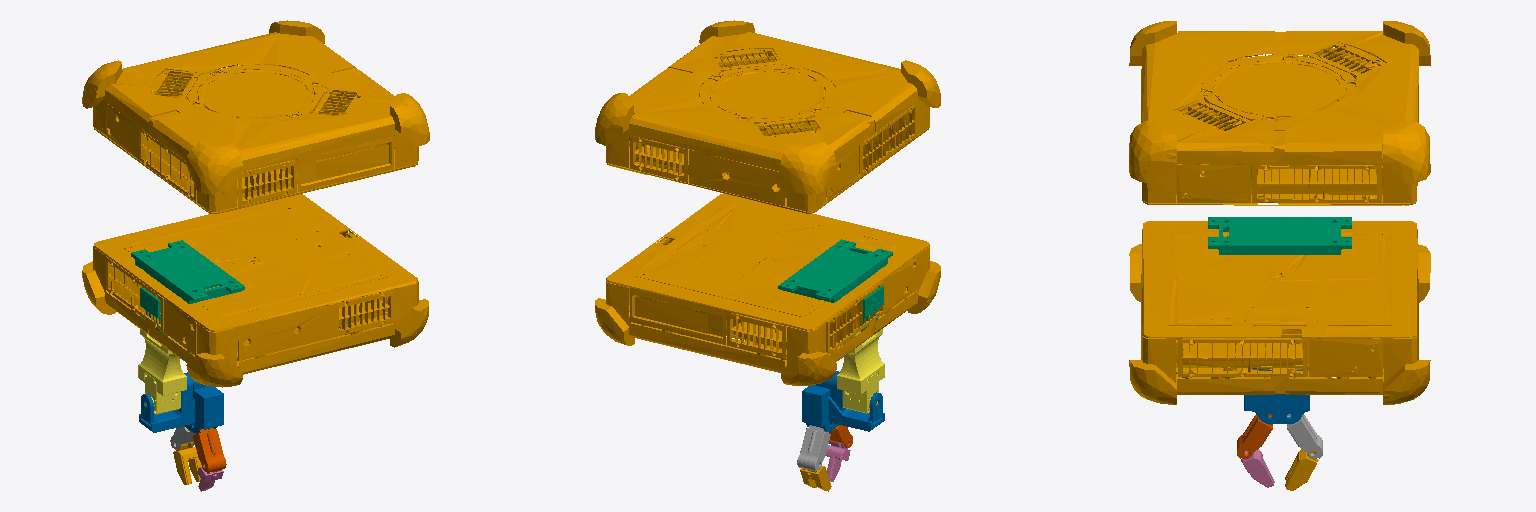
URDF robot description (astrobee):
<?xml version="1.0" ?>
<!-- =================================================================================== -->
<!-- |    This document was autogenerated by xacro from astrobee.urdf.xacro            | -->
<!-- |    EDITING THIS FILE BY HAND IS NOT RECOMMENDED                                 | -->
<!-- =================================================================================== -->
<!-- Copyright (c) 2017, United States Government, as represented by the     -->
<!-- Administrator of the National Aeronautics and Space Administration.     -->
<!--                                                                         -->
<!-- All rights reserved.                                                    -->
<!--                                                                         -->
<!-- The Astrobee platform is licensed under the Apache License, Version 2.0 -->
<!-- (the "License"); you may not use this file except in compliance with    -->
<!-- the License. You may obtain a copy of the License at                    -->
<!--                                                                         -->
<!--     http://www.apache.org/licenses/LICENSE-2.0                          -->
<!--                                                                         -->
<!-- Unless required by applicable law or agreed to in writing, software     -->
<!-- distributed under the License is distributed on an "AS IS" BASIS,       -->
<!-- WITHOUT WARRANTIES OR CONDITIONS OF ANY KIND, either express or         -->
<!-- implied. See the License for the specific language governing            -->
<!-- permissions and limitations under the License.                          -->
<robot name="astrobee" xmlns:xacro="http://www.ros.org/wiki/xacro">
  <!-- BASE GEOMETRY -->
  <link name="body">
    <self_collide>false</self_collide>
    <!-- body -->
    <visual name="body_visual">
      <origin rpy="0 0 0" xyz="0 0 0"/>
      <geometry>
        <mesh filename="package://Astrobee/meshes/astrobee/body.obj"/>
      </geometry>
    </visual>
    <collision name="body_collision">
      <origin rpy="0 0 0" xyz="-0.000794 0.000229 -0.003907"/>
      <geometry>
        <box size="0.290513 0.151942 0.281129"/>
      </geometry>
    </collision>
    <!-- port pmc -->
    <visual name="pmc_port_visual">
      <origin rpy="0 0 0" xyz="0 0 0"/>
      <geometry>
        <mesh filename="package://Astrobee/meshes/astrobee/pmc.obj"/>
      </geometry>
    </visual>
    <visual name="pmc_port_bumper_visual">
      <origin rpy="0 0 0" xyz="0 0 0"/>
      <geometry>
        <mesh filename="package://Astrobee/meshes/astrobee/pmc_bumper.obj"/>
      </geometry>
    </visual>
    <visual name="pmc_port_skin_visual">
      <origin rpy="0 0 0" xyz="0 0 0"/>
      <geometry>
        <mesh filename="package://Astrobee/meshes/astrobee/pmc_skin.obj"/>
      </geometry>
    </visual>
    <collision name="pmc_port_collision">
      <origin rpy="0 0 0" xyz="0 -0.117546 0"/>
      <geometry>
        <box size="0.319199 0.083962 0.319588"/>
      </geometry>
    </collision>
    <!-- starboard pmc -->
    <visual name="pmc_stbd_visual">
      <origin rpy="0 3.14 3.14" xyz="0 0 0"/>
      <geometry>
        <mesh filename="package://Astrobee/meshes/astrobee/pmc.obj"/>
      </geometry>
    </visual>
    <visual name="pmc_stbd_bumper_visual">
      <origin rpy="0 3.14 3.14" xyz="0 0 0"/>
      <geometry>
        <mesh filename="package://Astrobee/meshes/astrobee/pmc_bumper.obj"/>
      </geometry>
    </visual>
    <visual name="pmc_stbd_skin_visual">
      <origin rpy="0 3.14 3.14" xyz="0 0 0"/>
      <geometry>
        <mesh filename="package://Astrobee/meshes/astrobee/pmc_skin.obj"/>
      </geometry>
    </visual>
    <collision name="pmc_stbd_collision">
      <origin rpy="0 0 0" xyz="0 0.117546 0"/>
      <geometry>
        <box size="0.319199 0.083962 0.319588"/>
      </geometry>
    </collision>
  </link>
  <!-- This is a workaround for KDL -->
  <link name="inertial_link">
    <self_collide>false</self_collide>
    <inertial>
      <mass value="7.0"/>
      <origin xyz="0 0 0"/>
      <inertia ixx="0.1083" ixy="0.0" ixz="0.0" iyy="0.1083" iyz="0.0" izz="0.1083"/>
    </inertial>
  </link>
  <joint name="inertial_joint" type="fixed">
    <origin rpy="0 0 0" xyz="0 0 0"/>
    <parent link="body"/>
    <child link="inertial_link"/>
  </joint>
  <link name="top_aft">
    <self_collide>false</self_collide>
    <inertial>
      <origin rpy="0 0 0" xyz="0 0 0"/>
      <mass value="0.3078"/>
      <inertia ixx="0.02705" ixy="0.0" ixz="0.0" iyy="0.02705" iyz="0.0" izz="0.02705"/>
    </inertial>
    <visual>
      <origin rpy="0 0 0" xyz="0 0 0"/>
      <geometry>
        <mesh filename="package://Astrobee/meshes/perching_arm/base_link.obj"/>
      </geometry>
      <material name="top_aft_beige"/>
    </visual>
    <collision>
      <origin rpy="0 0 0" xyz="0 -0.038125 0"/>
      <geometry>
        <box size="0.090441 0.152400 0.076250"/>
      </geometry>
    </collision>
  </link>
  <joint name="top_aft" type="fixed">
    <origin rpy="0.0 3.1415 0.0" xyz="-0.01 0.0 -0.065"/>
    <parent link="body"/>
    <child link="top_aft"/>
  </joint>
  <link name="top_aft_arm_proximal_link">
    <self_collide>false</self_collide>
    <inertial>
      <origin rpy="0 0 0" xyz="0 0 0"/>
      <mass value="0.1623"/>
      <inertia ixx="0.02705" ixy="0.0" ixz="0.0" iyy="0.02705" iyz="0.0" izz="0.02705"/>
    </inertial>
    <visual>
      <origin rpy="0 0 0" xyz="0 0 0"/>
      <geometry>
        <mesh filename="package://Astrobee/meshes/perching_arm/arm_proximal_link.obj"/>
      </geometry>
      <material name="top_aft_beige"/>
    </visual>
    <collision>
      <origin rpy="0 0 0" xyz="-0.049625 -0.0022 0"/>
      <geometry>
        <box size="0.123250 0.068000 0.042400"/>
      </geometry>
    </collision>
  </link>
  <joint name="top_aft_arm_proximal_joint" type="revolute">
    <origin rpy="0 1.57079632679 0" xyz="0.11945 0 0.065"/>
    <parent link="top_aft"/>
    <child link="top_aft_arm_proximal_link"/>
    <axis xyz="0 -1 0"/>
    <limit effort="2.7" lower="-2.0944" upper="1.57079" velocity="0.12"/>
  </joint>
  <link name="top_aft_arm_distal_link">
    <self_collide>false</self_collide>
    <inertial>
      <origin rpy="0 0 0" xyz="0 0 0"/>
      <mass value="0.1033"/>
      <inertia ixx="0.002705" ixy="0.0" ixz="0.0" iyy="0.002705" iyz="0.0" izz="0.002705"/>
    </inertial>
    <visual>
      <origin rpy="0 0 0" xyz="0 0 0"/>
      <geometry>
        <mesh filename="package://Astrobee/meshes/perching_arm/arm_distal_link.obj"/>
      </geometry>
      <material name="top_aft_beige"/>
    </visual>
    <collision>
      <origin rpy="0 0 0" xyz="0 0 -0.02"/>
      <geometry>
        <box size="0.075000 0.070000 0.087400"/>
      </geometry>
    </collision>
  </link>
  <joint name="top_aft_arm_distal_joint" type="revolute">
    <origin rpy="0 0 0" xyz="-0.1 0 0"/>
    <parent link="top_aft_arm_proximal_link"/>
    <child link="top_aft_arm_distal_link"/>
    <axis xyz="0 0 1"/>
    <limit effort="2.7" lower="-1.57079" upper="1.57079" velocity="0.12"/>
  </joint>
  <link name="top_aft_gripper_left_proximal_link">
    <self_collide>false</self_collide>
    <inertial>
      <origin rpy="0 0 0" xyz="0 0 0"/>
      <mass value="0.04"/>
      <inertia ixx="0.002705" ixy="0.0" ixz="0.0" iyy="0.002705" iyz="0.0" izz="0.002705"/>
    </inertial>
    <visual>
      <origin rpy="0 0 0" xyz="0 0 0"/>
      <geometry>
        <mesh filename="package://Astrobee/meshes/perching_arm/gripper_left_proximal_link.obj"/>
      </geometry>
      <material name="top_aft_beige"/>
    </visual>
    <collision>
      <origin rpy="0 0 0" xyz="-0.025547 0 -0.000875"/>
      <geometry>
        <box size="0.067654 0.021750 0.025400"/>
      </geometry>
    </collision>
  </link>
  <joint name="top_aft_gripper_left_proximal_joint" type="revolute">
    <origin rpy="0 0 0" xyz="-0.039 -0.010002 -0.0497"/>
    <parent link="top_aft_arm_distal_link"/>
    <child link="top_aft_gripper_left_proximal_link"/>
    <axis xyz="0 0 1"/>
    <limit effort="0.1225" lower="0.349066" upper="0.698132" velocity="0.12"/>
  </joint>
  <link name="top_aft_gripper_left_distal_link">
    <self_collide>false</self_collide>
    <inertial>
      <origin rpy="0 0 0" xyz="0 0 0"/>
      <mass value="0.0116026396896178"/>
      <inertia ixx="0.002705" ixy="0.0" ixz="0.0" iyy="0.002705" iyz="0.0" izz="0.002705"/>
    </inertial>
    <visual>
      <origin rpy="0 0 0" xyz="0 0 0"/>
      <geometry>
        <mesh filename="package://Astrobee/meshes/perching_arm/gripper_left_distal_link.obj"/>
      </geometry>
      <material name="top_aft_beige"/>
    </visual>
    <collision>
      <origin rpy="0 0 0" xyz="-0.021524 0 -0.000875"/>
      <geometry>
        <box size="0.056953 0.021750 0.025400"/>
      </geometry>
    </collision>
  </link>
  <joint name="top_aft_gripper_left_distal_joint" type="revolute">
    <origin rpy="0 0 0" xyz="-0.05 0 0"/>
    <parent link="top_aft_gripper_left_proximal_link"/>
    <child link="top_aft_gripper_left_distal_link"/>
    <axis xyz="0 0 1"/>
    <limit effort="0.1225" lower="-1.22173" upper="-0.69813" velocity="0.12"/>
  </joint>
  <link name="top_aft_gripper_right_proximal_link">
    <self_collide>false</self_collide>
    <inertial>
      <origin rpy="0 0 0" xyz="0 0 0"/>
      <mass value="0.04"/>
      <inertia ixx="0.002705" ixy="0.0" ixz="0.0" iyy="0.002705" iyz="0.0" izz="0.002705"/>
    </inertial>
    <visual>
      <origin rpy="0 0 0" xyz="0 0 0"/>
      <geometry>
        <mesh filename="package://Astrobee/meshes/perching_arm/gripper_right_proximal_link.obj"/>
      </geometry>
      <material name="top_aft_beige"/>
    </visual>
    <collision>
      <origin rpy="0 0 0" xyz="-0.025547 0 0.000875"/>
      <geometry>
        <box size="0.067654 0.021750 0.025400"/>
      </geometry>
    </collision>
  </link>
  <joint name="top_aft_gripper_right_proximal_joint" type="revolute">
    <origin rpy="0 0 0" xyz="-0.039 0.010002 -0.0497"/>
    <parent link="top_aft_arm_distal_link"/>
    <child link="top_aft_gripper_right_proximal_link"/>
    <axis xyz="0 0 1"/>
    <limit effort="0.1225" lower="-0.698132" upper="-0.349066" velocity="0.12"/>
  </joint>
  <link name="top_aft_gripper_right_distal_link">
    <self_collide>false</self_collide>
    <inertial>
      <origin rpy="0 0 0" xyz="0 0 0"/>
      <mass value="0.02285"/>
      <inertia ixx="0.002705" ixy="0.0" ixz="0.0" iyy="0.002705" iyz="0.0" izz="0.002705"/>
    </inertial>
    <visual>
      <origin rpy="0 0 0" xyz="0 0 0"/>
      <geometry>
        <mesh filename="package://Astrobee/meshes/perching_arm/gripper_right_distal_link.obj"/>
      </geometry>
      <material name="top_aft_beige"/>
    </visual>
    <collision>
      <origin rpy="0 0 0" xyz="-0.021512 0 0.000875"/>
      <geometry>
        <box size="0.056894 0.021750 0.025400"/>
      </geometry>
    </collision>
  </link>
  <joint name="top_aft_gripper_right_distal_joint" type="revolute">
    <origin rpy="0 0 0" xyz="-0.05 0 0"/>
    <parent link="top_aft_gripper_right_proximal_link"/>
    <child link="top_aft_gripper_right_distal_link"/>
    <axis xyz="0 0 1"/>
    <limit effort="0.1225" lower="0.69813" upper="1.22173" velocity="0.12"/>
  </joint>
  <material name="top_aft_beige">
    <texture filename="materials/textures/beige.png"/>
  </material>
</robot>

--- What the picture shows (computed from the rendered views, not written in the file) ---
The picture shows the robot from 3 angles, left to right: view 1: azimuth 30°, elevation 25°; view 2: azimuth 150°, elevation 25°; view 3: azimuth 270°, elevation 25°; orthographic projection.
Model astrobee with 9 links and 8 joints (6 revolute, 2 fixed), rooted at body, posed joints at zero except 4 at the middle of their limits (top_aft_gripper_left_proximal_joint = 0.5236, top_aft_gripper_left_distal_joint = -0.9599, top_aft_gripper_right_proximal_joint = -0.5236, top_aft_gripper_right_distal_joint = 0.9599).
Links seen in each view (by area): view 1: body, top_aft, top_aft_arm_distal_link, top_aft_arm_proximal_link, top_aft_gripper_left_proximal_link, top_aft_gripper_right_distal_link; view 2: body, top_aft, top_aft_arm_distal_link, top_aft_arm_proximal_link, top_aft_gripper_right_proximal_link, top_aft_gripper_left_distal_link; view 3: body, top_aft, top_aft_arm_distal_link, top_aft_gripper_left_proximal_link, top_aft_gripper_right_proximal_link, top_aft_gripper_right_distal_link, top_aft_gripper_left_distal_link.
Boxes of the visible links, x1,y1,x2,y2 form: body: (82,20,429,387); top_aft: (131,240,244,331); top_aft_arm_distal_link: (139,372,223,433); top_aft_arm_proximal_link: (138,315,186,414); top_aft_gripper_left_proximal_link: (193,428,226,472); top_aft_gripper_right_distal_link: (173,442,201,484); body: (595,20,940,385); top_aft: (778,239,892,331); top_aft_arm_distal_link: (802,371,884,431); top_aft_arm_proximal_link: (837,315,884,413); top_aft_gripper_right_proximal_link: (797,425,830,471); top_aft_gripper_left_distal_link: (826,441,850,481); body: (1129,21,1430,404); top_aft: (1208,217,1351,254); top_aft_arm_distal_link: (1244,369,1309,423); top_aft_gripper_left_proximal_link: (1237,414,1272,458); top_aft_gripper_right_proximal_link: (1287,414,1322,458); top_aft_gripper_right_distal_link: (1285,449,1318,490); top_aft_gripper_left_distal_link: (1241,449,1274,487).
Bounding box of the posed robot: 0.3193 × 0.3196 × 0.5168 m (x, y, z).
Meshes: 11 distinct files referenced, 13 mesh visuals loaded (10 OBJ); not drawn: 1 (reference not matched to a file when rendering).